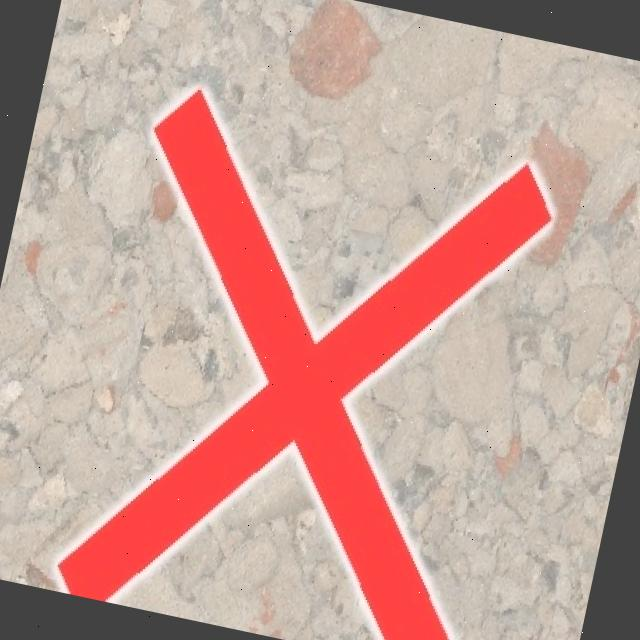x_marker: (51, 80, 560, 640)
